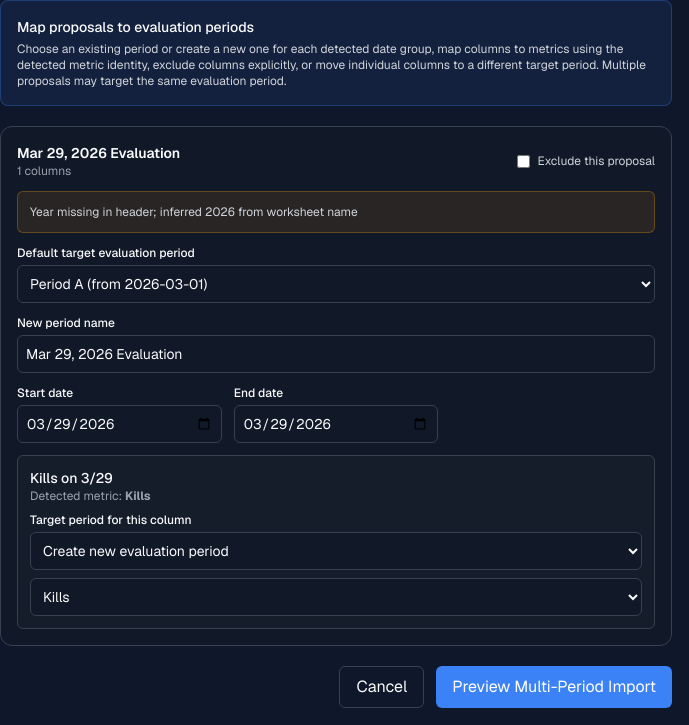
MultiPeriodImportFlow [component] › invalidates existing mappings when the metric is neither on the new period nor attachable
The width and height of the screenshot is (689, 725).
Select "Period A (from 2026-03-01)" in the dropdown labelled "Default target evaluation period" at (336, 284), box [17, 265, 655, 303]
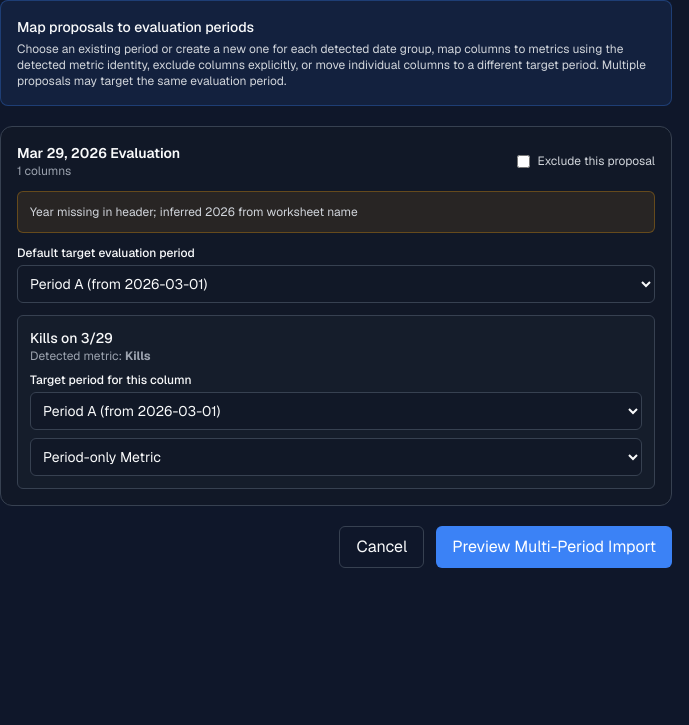
Select "Period-only Metric" in the dropdown named "Metric for Kills on 3/29" at (336, 457), box [30, 438, 642, 476]
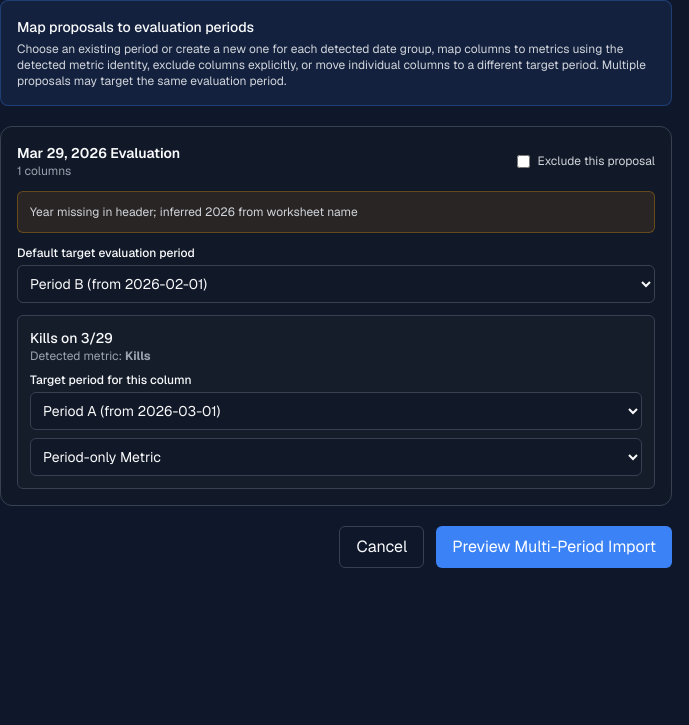
Expected: the button "Preview Multi-Period Import" is enabled, [436, 526, 672, 568]
Select "Period B (from 2026-02-01)" in the dropdown labelled "Default target evaluation period" at (336, 284), box [17, 265, 655, 303]
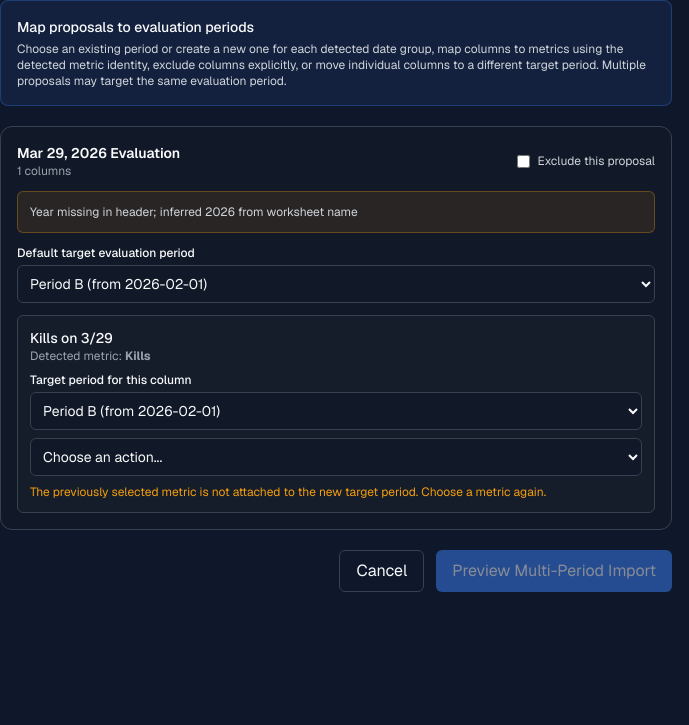
Now the text "The previously selected metric is not attached to the new target period. Choose a metric again." is shown, box [30, 484, 546, 500]
Now the button "Preview Multi-Period Import" is disabled, box [436, 550, 672, 592]
